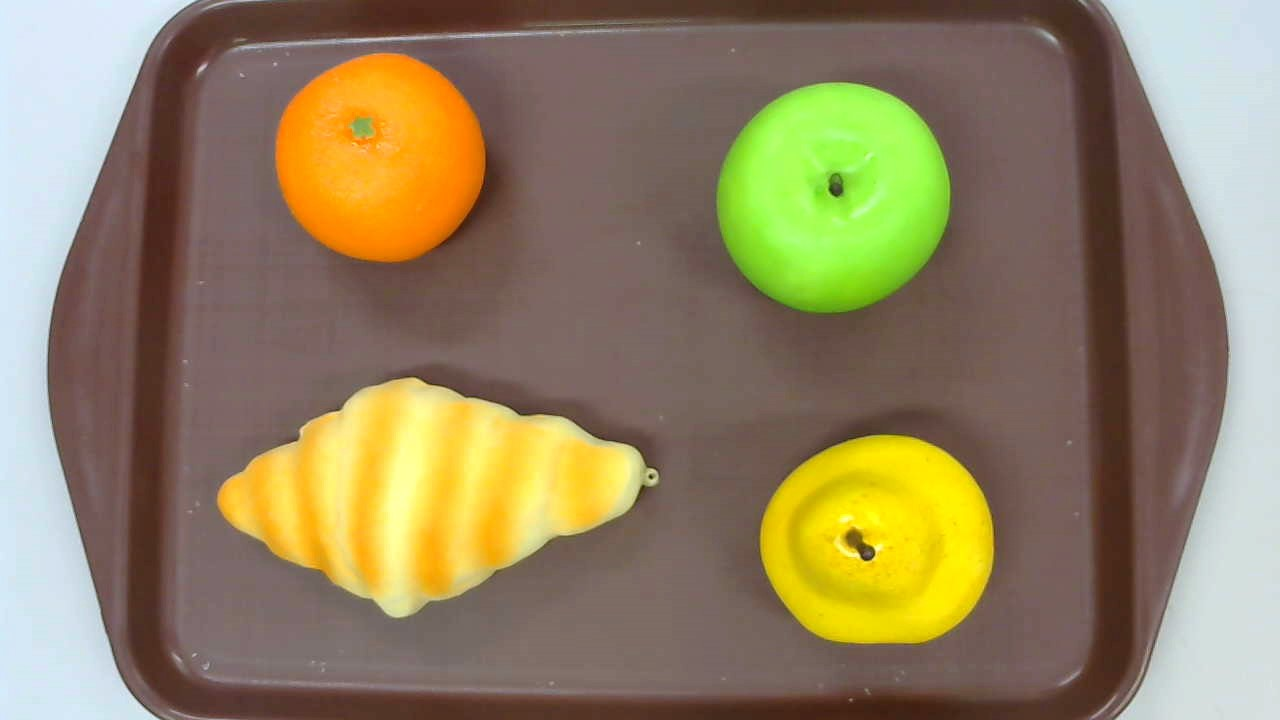croissant: (215, 377, 660, 618)
green apple: (715, 82, 950, 315)
orange: (275, 53, 485, 263)
yellow pear: (760, 435, 992, 645)
